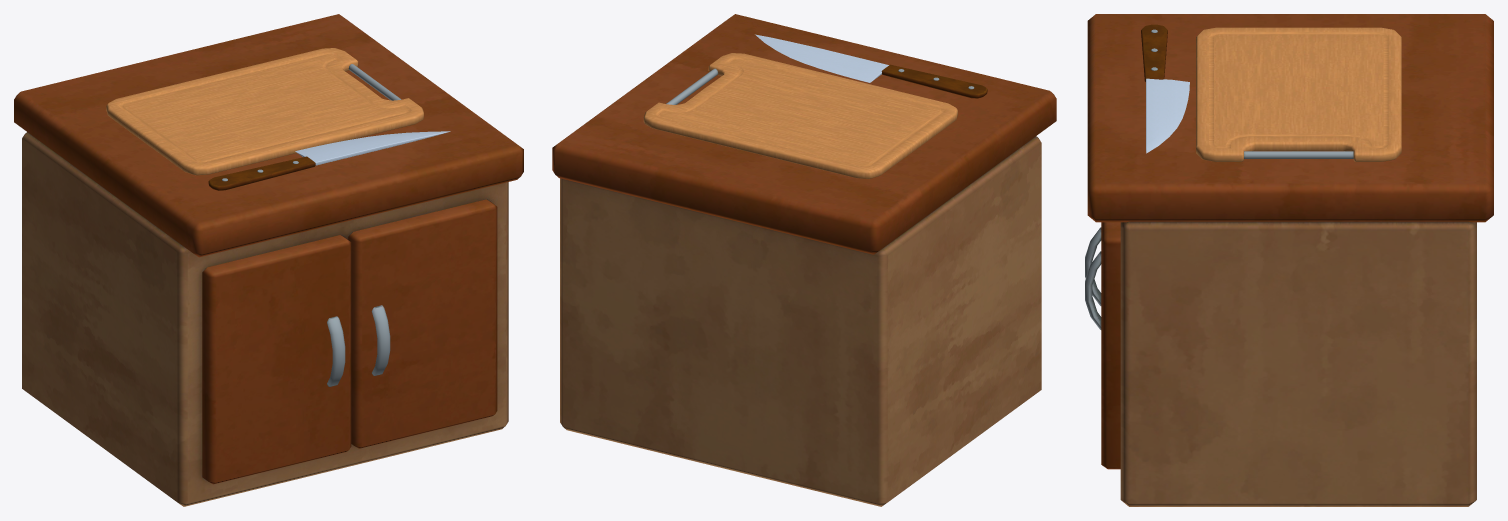
File: CuttingCounter_Visual.glb
The picture shows the model from 3 angles, left to right: view 1: azimuth 30°, elevation 25°; view 2: azimuth 150°, elevation 25°; view 3: azimuth 270°, elevation 25°; orthographic projection. The views are drawn at different scales.
Parts seen in each view (by area): view 1: KitchenCounter, Chopping Board, Knife; view 2: KitchenCounter, Chopping Board, Knife; view 3: KitchenCounter, Chopping Board, Knife.
Boxes of the visible parts, x1=… form: KitchenCounter: x1=14, y1=14, x2=523, y2=506; Chopping Board: x1=106, y1=48, x2=423, y2=175; Knife: x1=208, y1=131, x2=450, y2=190; KitchenCounter: x1=552, y1=14, x2=1056, y2=506; Chopping Board: x1=643, y1=53, x2=957, y2=178; Knife: x1=755, y1=34, x2=987, y2=98; KitchenCounter: x1=1085, y1=14, x2=1493, y2=506; Chopping Board: x1=1196, y1=27, x2=1401, y2=161; Knife: x1=1141, y1=24, x2=1189, y2=153.
Size of the model in its own units: 1.48 by 1.31 by 1.45.
Materials: 3 (3 with a texture image).
